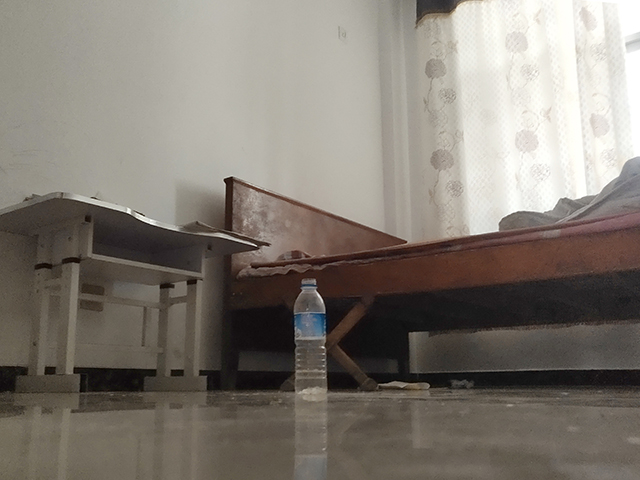bed: (217, 153, 640, 392)
curtain: (416, 2, 640, 238)
stool: (276, 289, 380, 394)
table: (1, 190, 272, 396)
